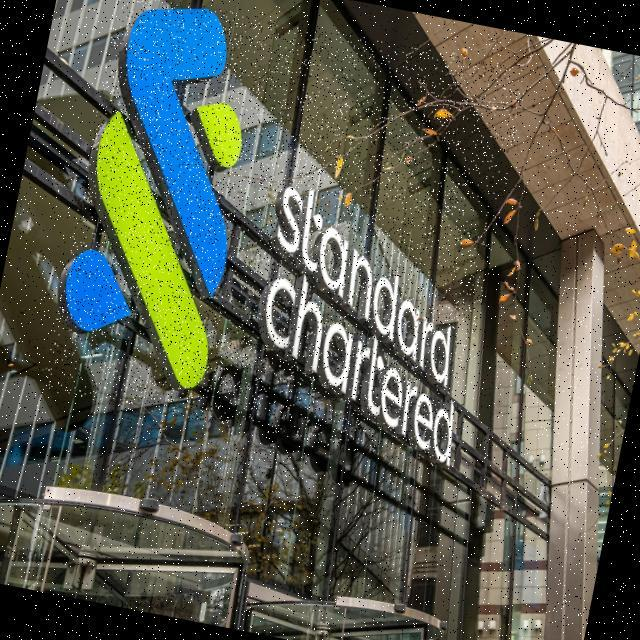Standard Chartered: (42, 0, 528, 470)
